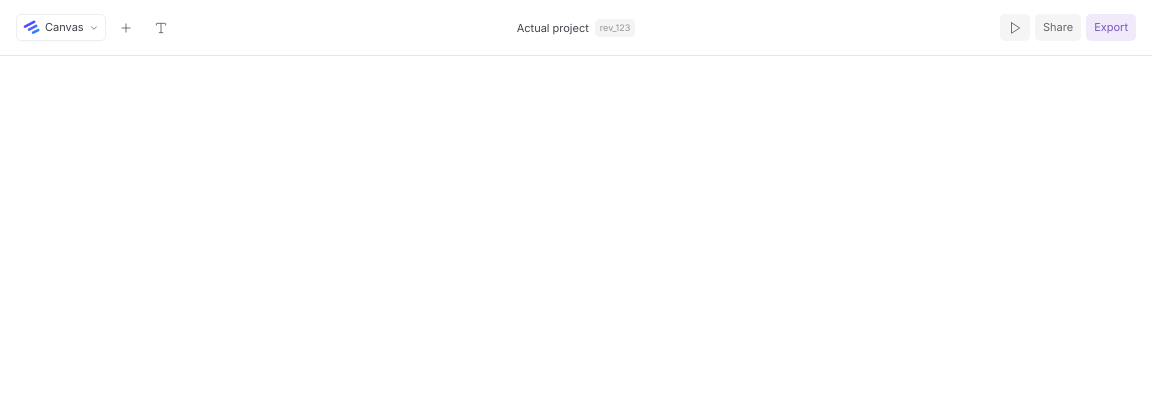
Test: keeps account navigation inside the editor popover without legacy account routes
What coordinates should you click on to do the following:
click the button "Canvas"
I would click on:
 (61, 28)
Its box is [16,14,106,41].
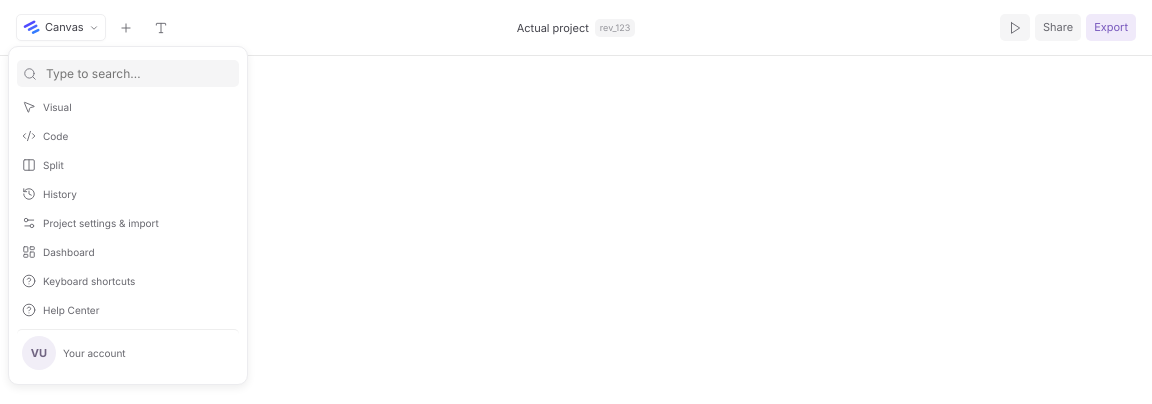
expect the button with class "editor-account-menu-trigger" is shown: met
What coordinates should you click on to do the following:
click the button with class "editor-account-menu-trigger"
I would click on:
 (128, 352)
Its box is [17,329,239,376].
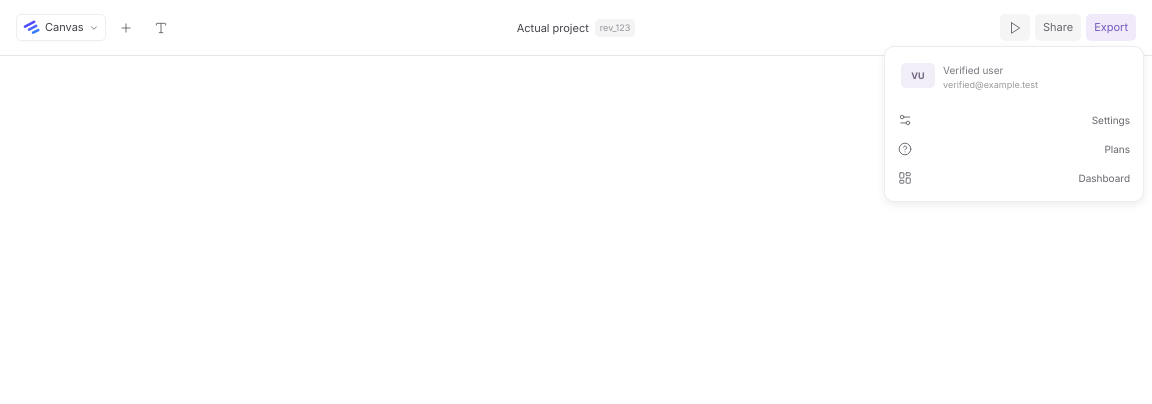
expect the element with class "editor-account-menu" is shown: met, box [884,46,1144,202]
expect the text "Verified user" is shown: met, box [943,64,1003,76]
expect the text "verified@example.test" is shown: met, box [943,78,1038,92]
